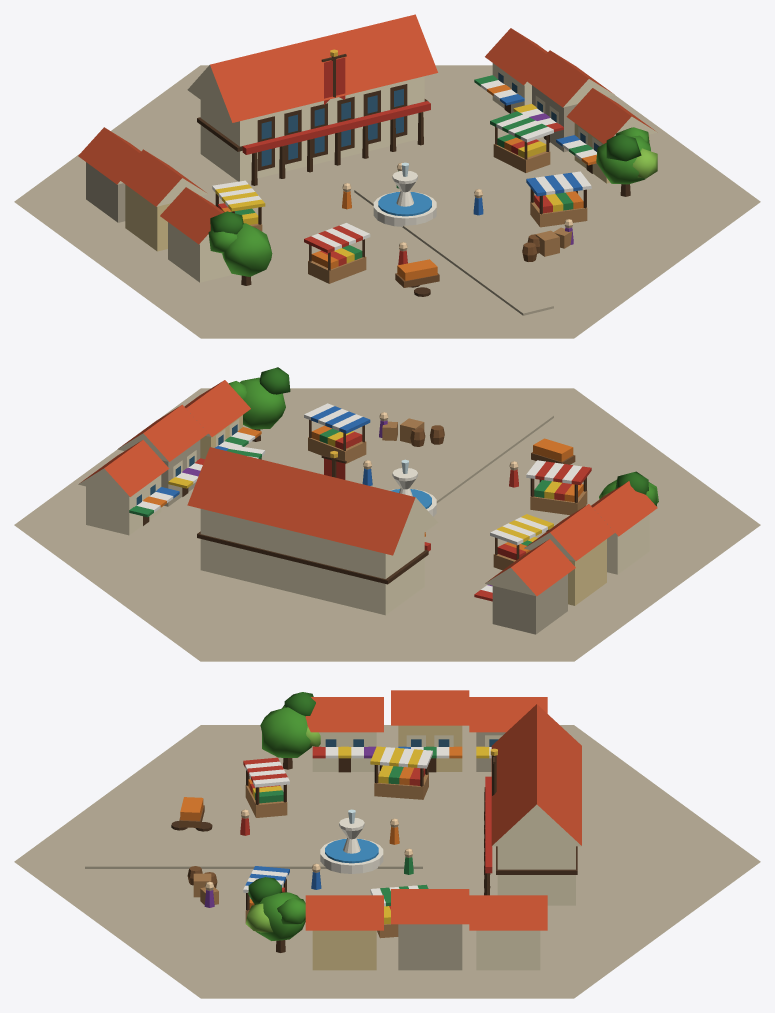
File: district_commercial_hub_2.fbx
3 views of the same model, one above another, from view 1: azimuth 30°, elevation 25°; view 2: azimuth 150°, elevation 25°; view 3: azimuth 270°, elevation 25° (orthographic).
Parts seen in each view (by area): view 1: district_commercial_hub_2; view 2: district_commercial_hub_2; view 3: district_commercial_hub_2.
Boxes of the visible parts, box(x1,y1,x2,y2) form: district_commercial_hub_2: box(14, 14, 760, 338); district_commercial_hub_2: box(14, 367, 760, 661); district_commercial_hub_2: box(14, 690, 760, 998).
Bounding box in the file's own units: 182 × 34.6 × 210.
